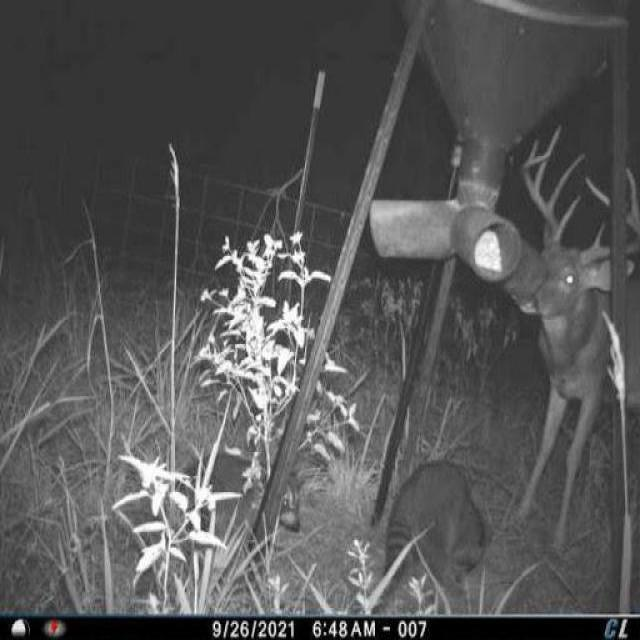deer: (517, 116, 640, 568)
